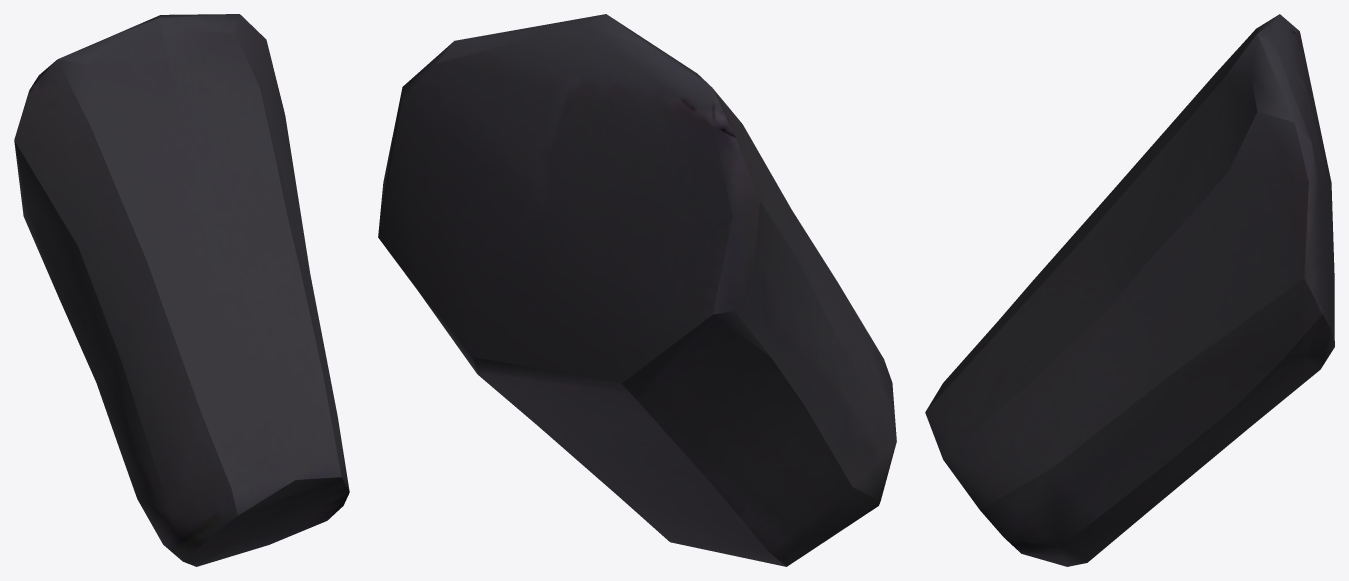
File: hombro-derecho-ca.obj
The picture shows the model from 3 angles, left to right: view 1: azimuth 30°, elevation 25°; view 2: azimuth 150°, elevation 25°; view 3: azimuth 270°, elevation 25°; orthographic projection. The views are drawn at different scales.
Parts seen in each view (by area): view 1: model.063; view 2: model.063; view 3: model.063.
Part boxes in pixels (x1=…): model.063: x1=14, y1=14, x2=349, y2=566; model.063: x1=378, y1=14, x2=896, y2=566; model.063: x1=925, y1=14, x2=1334, y2=566.
Size of the model in its own units: 0.041 by 0.0662 by 0.0472.
1 material, 1 textured.
